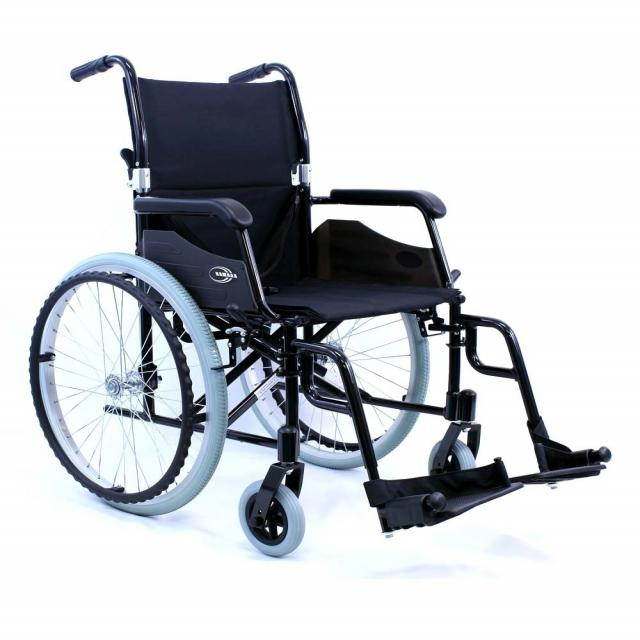wheelchair: (24, 44, 626, 567)
